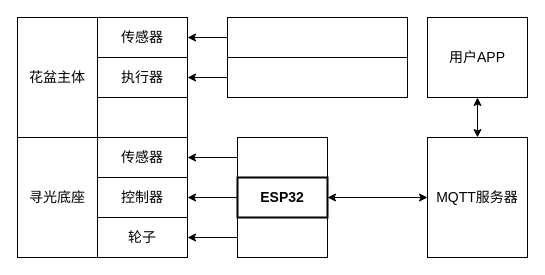
Some shapes in this 545 by 275 pixel diagram are drawn without their labels. The shapes that lost their labels are listed below. From the top down, each one's centre as x and y in pixels, then its label:
the point at 317,37: 温度，湿度，水位传感器
the point at 317,77: 水泵，雾化器，LED灯带
the point at 142,117: 水箱
the point at 282,157: 光线传感器
the point at 282,237: 电源
